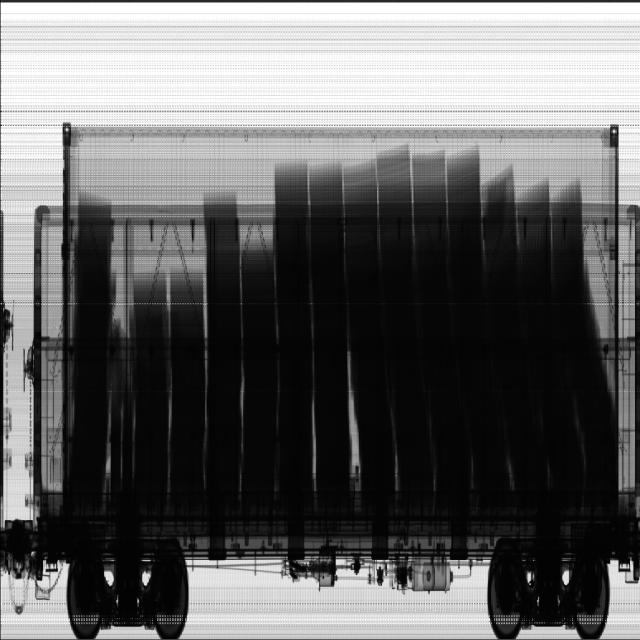textiles: (275, 147, 590, 305)
